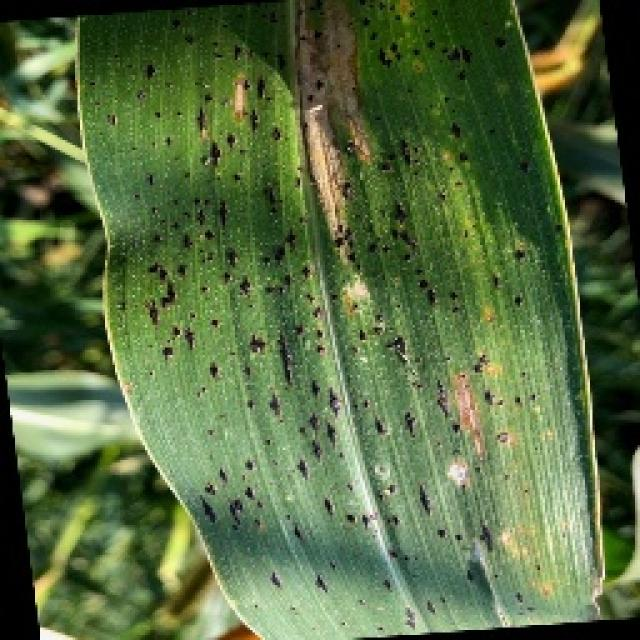Tar_Spot: (132, 54, 269, 362), (294, 220, 418, 505)
